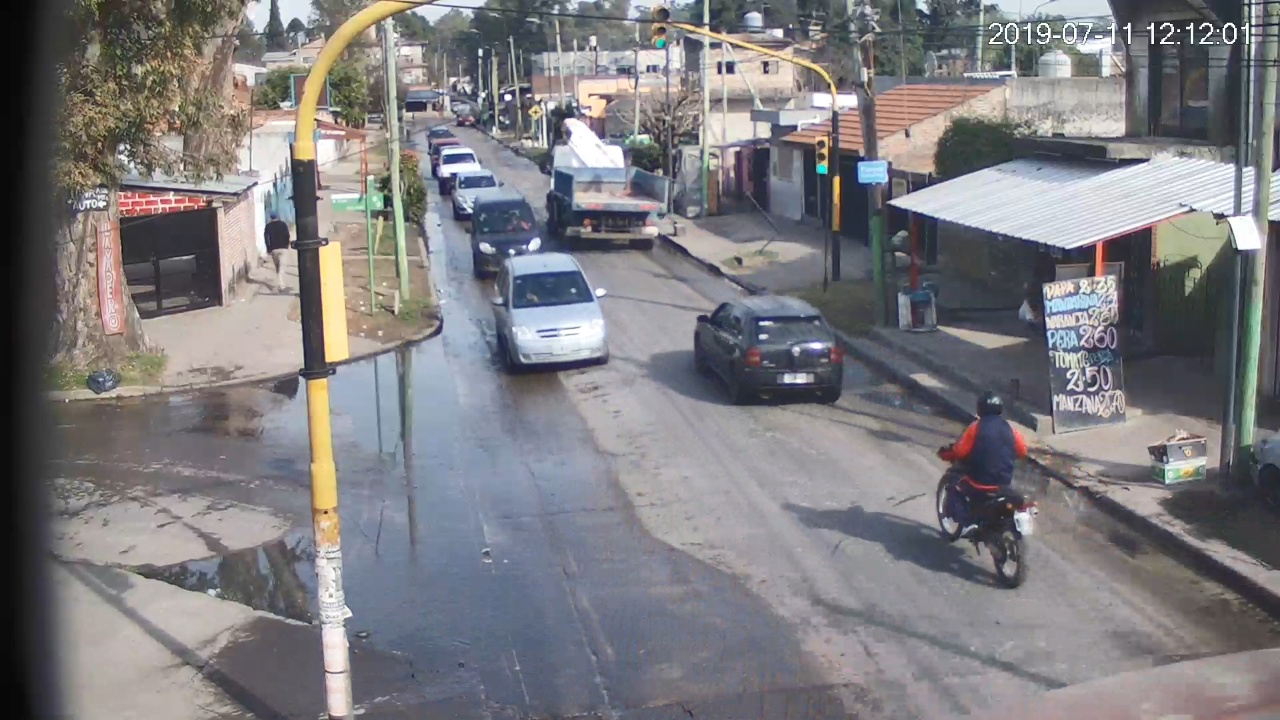car: (694, 295, 842, 402)
front car: (491, 251, 610, 367)
motorcycle: (934, 414, 1037, 588)
traffic light: (652, 7, 668, 48), (815, 137, 828, 173)
